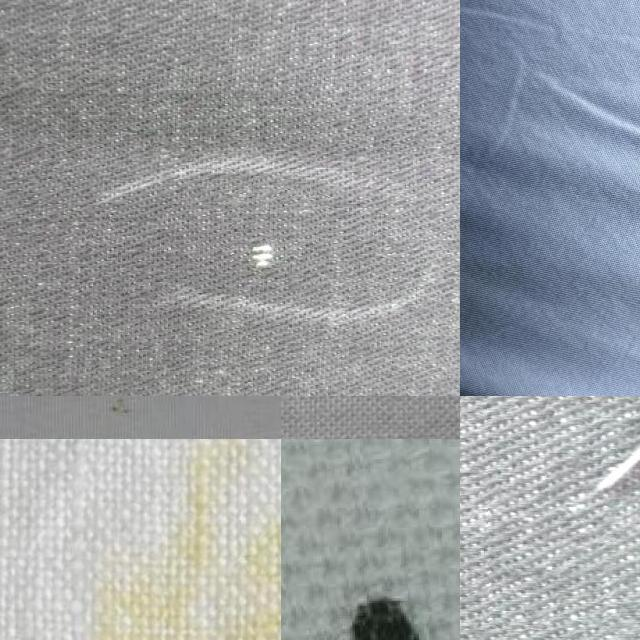Hole: (0, 439, 280, 640), (312, 564, 457, 640)
Thread_other: (460, 396, 640, 628), (194, 196, 328, 288)
